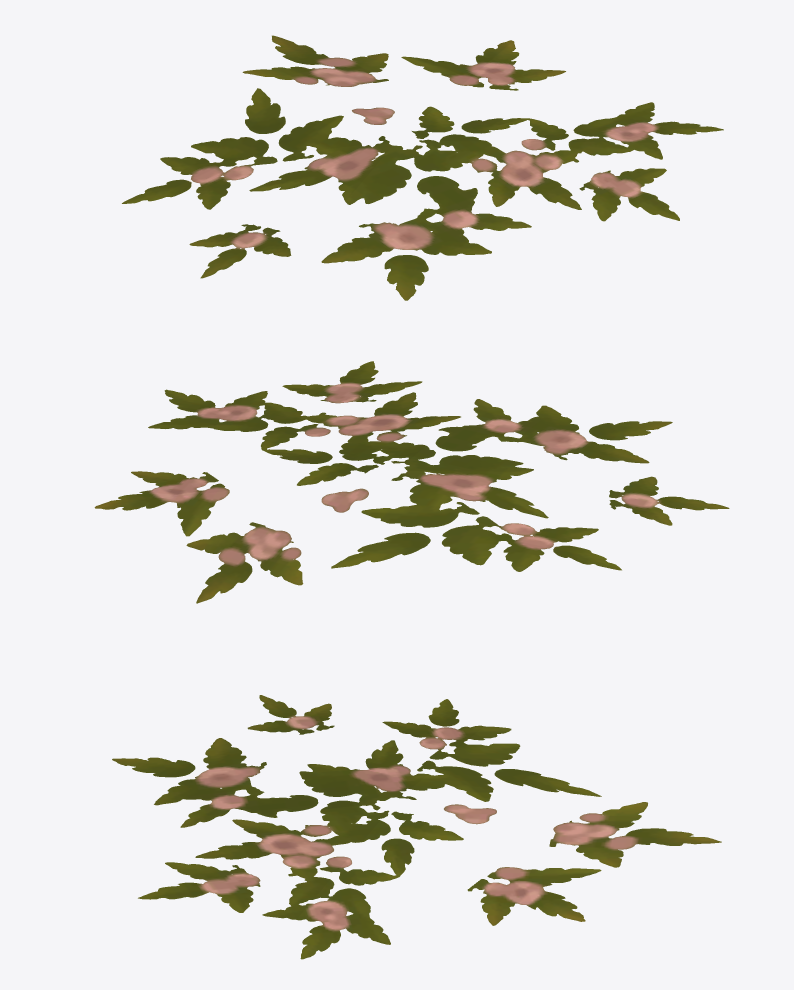
The model's file is flower_patch_01.fbx.
3 renders of one model, top to bottom at view 1: azimuth 30°, elevation 25°; view 2: azimuth 150°, elevation 25°; view 3: azimuth 270°, elevation 25°, orthographic.
Parts seen in each view (by area): view 1: obj0.030; view 2: obj0.030; view 3: obj0.030.
Part boxes in pixels (<box>): obj0.030: <box>122,35,723,300</box>; obj0.030: <box>94,361,729,603</box>; obj0.030: <box>112,695,721,959</box>.
Size of the model in its own units: 3.67 by 0.1375 by 3.94.
